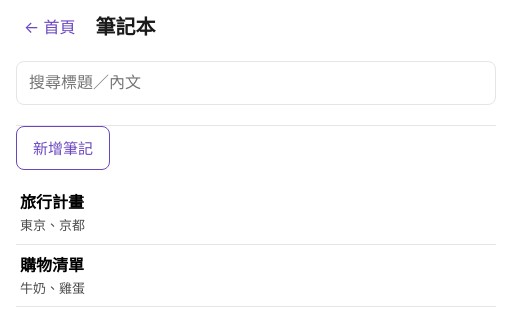
Test: NotebookListPage › lists existing notes and filters them by search
Expected: the text "購物清單" is shown, [20,254,84,276]
Expected: the text "旅行計畫" is shown, [20,191,84,213]
Type "東京" into the search field named "搜尋筆記" at (256, 83), box [16,61,496,105]
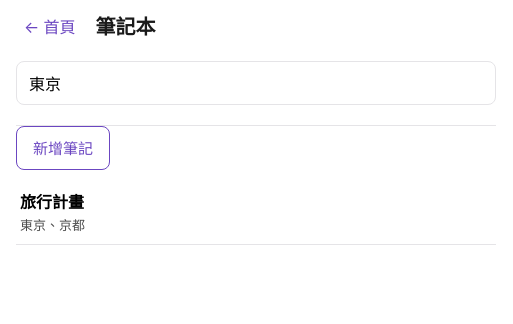
Expected: the text "旅行計畫" is shown, [20,191,84,213]
Expected: the button "購物清單" is gone
